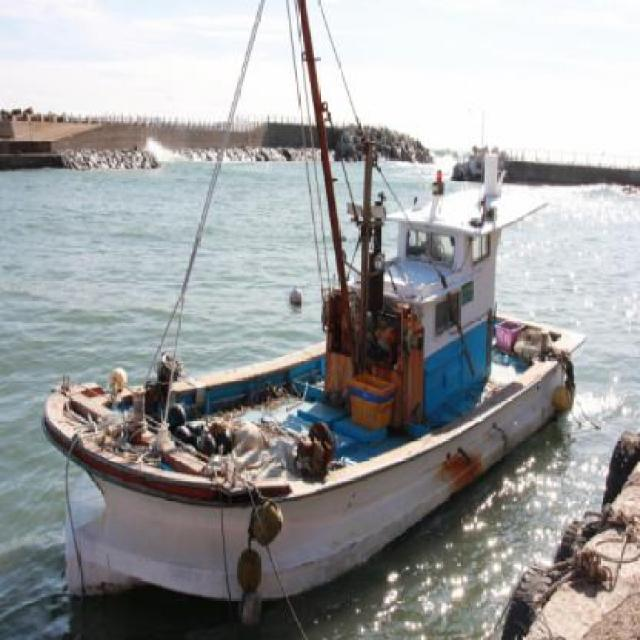Ship: (29, 183, 593, 600)
